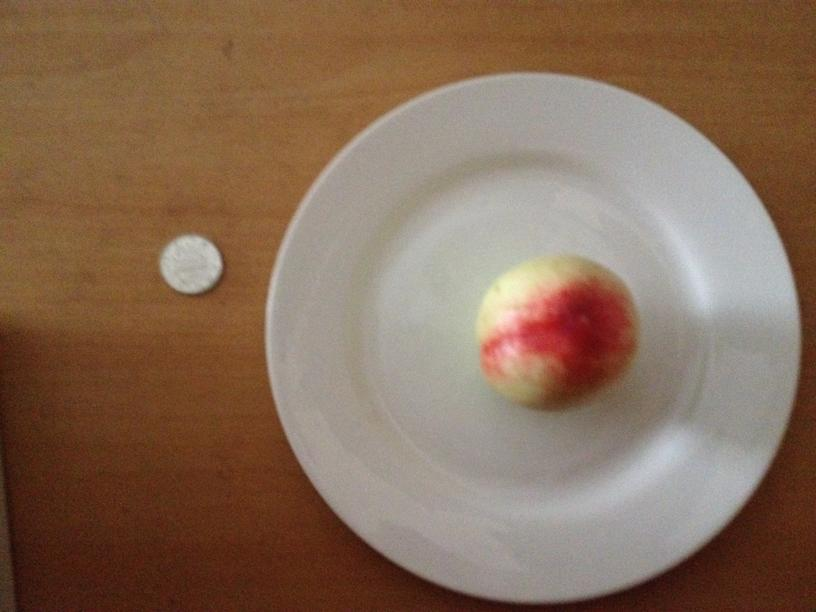coin: (158, 232, 223, 296)
peach: (475, 252, 639, 409)
